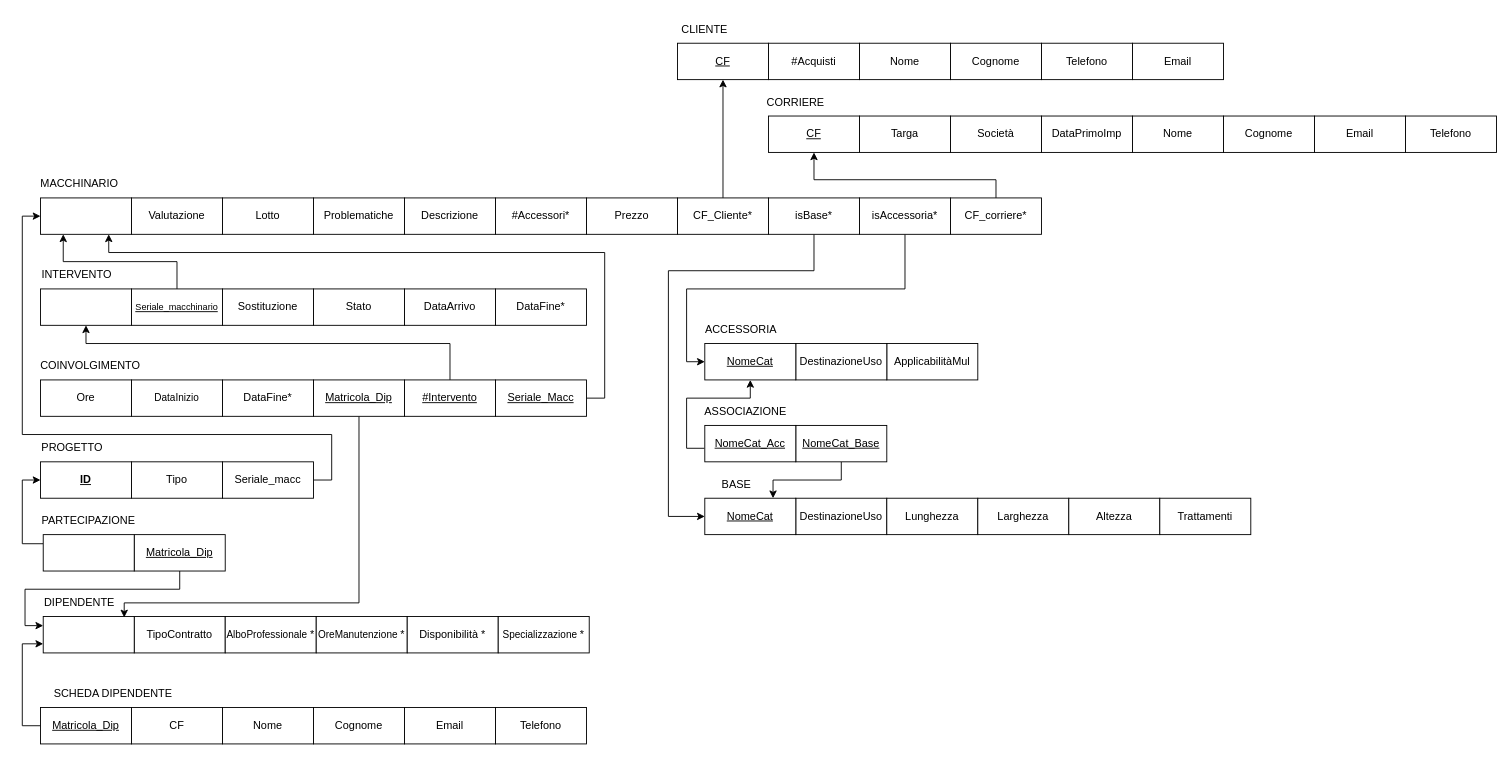
Some shapes in this 1512 by 760 pixel diagram are drawn without their labels. Each missing label, with the centre of its shape:
"#Progressivo" belongs at point (85, 306).
"ID_Progetto" belongs at point (88, 552).
"Matricola" belongs at point (88, 634).
"Seriale" belongs at point (85, 215).
